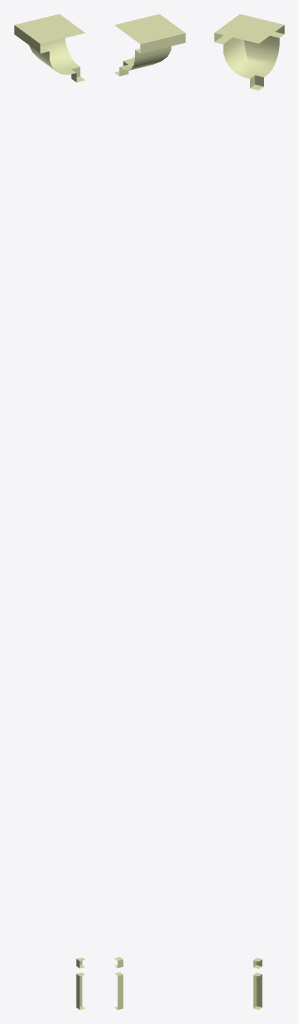
Rendered from Border.fbx.
The picture shows the model from 3 angles, left to right: view 1: azimuth 30°, elevation 25°; view 2: azimuth 210°, elevation 25°; view 3: azimuth 330°, elevation 25°; orthographic projection.
Parts seen in each view (by area): view 1: SM_Wall_Central_fazendo bordinha.002; view 2: SM_Wall_Central_fazendo bordinha.002; view 3: SM_Wall_Central_fazendo bordinha.002.
Boxes of the visible parts, x1,y1,x2,y2 form: SM_Wall_Central_fazendo bordinha.002: [14, 14, 85, 1009]; SM_Wall_Central_fazendo bordinha.002: [114, 14, 185, 1009]; SM_Wall_Central_fazendo bordinha.002: [214, 14, 284, 1009].
Size of the model in its own units: 106 by 2190 by 106.
